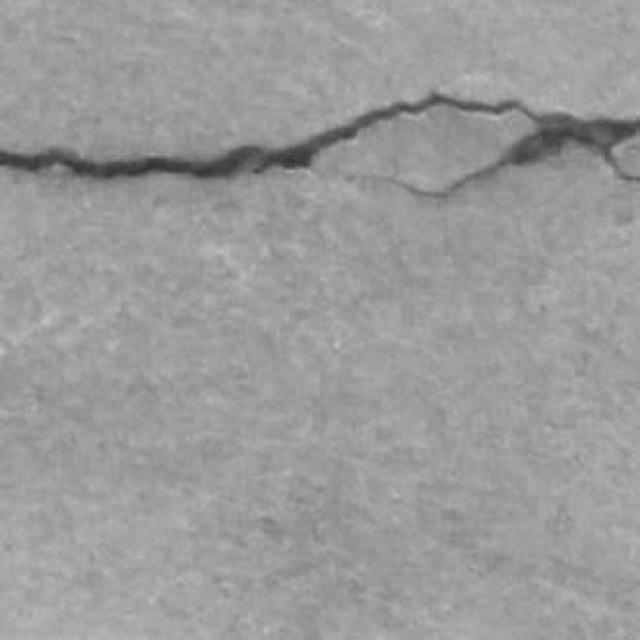crack: (0, 94, 639, 197)
